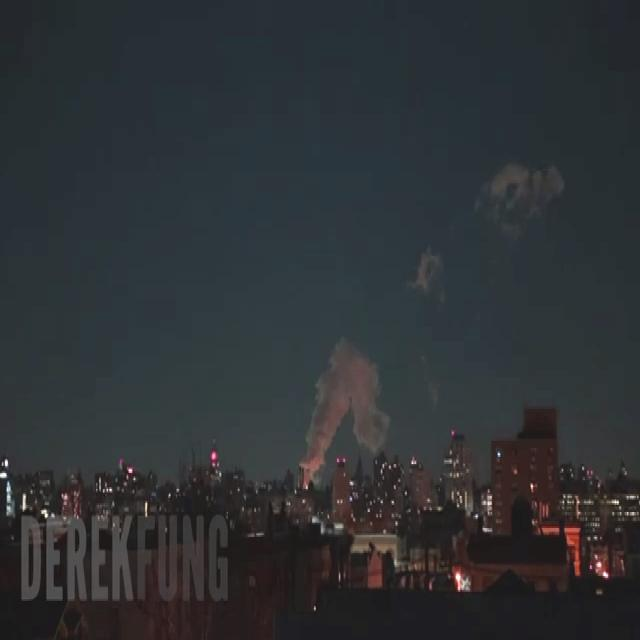smoke: (300, 338, 389, 476)
